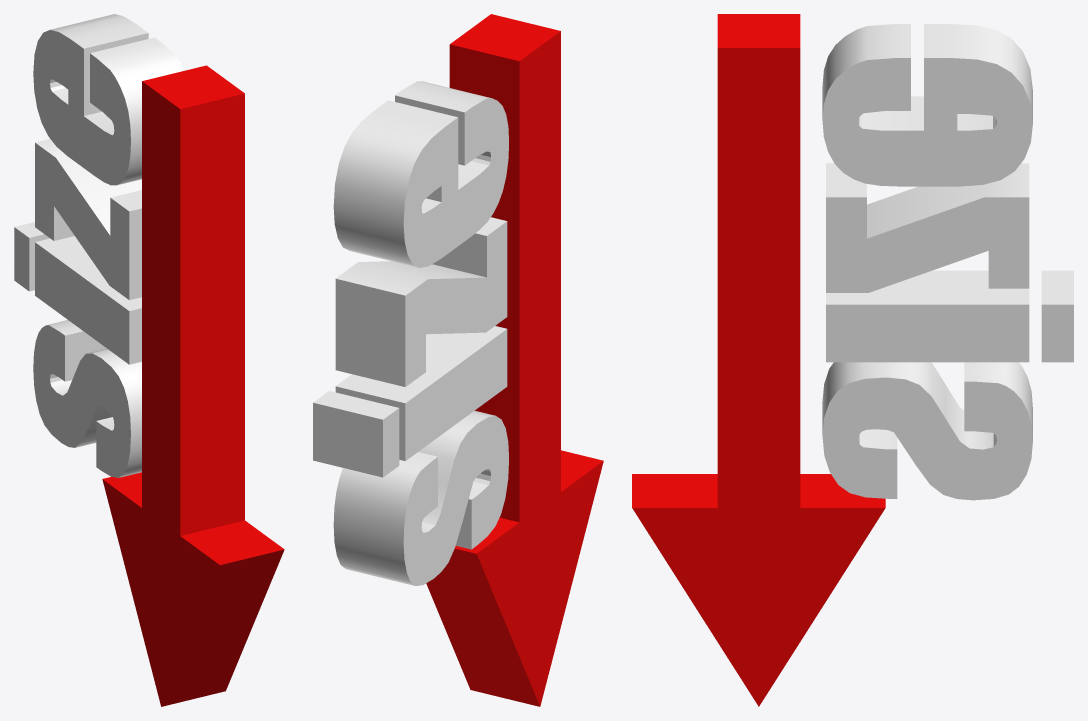
The model's file is size_decrease.dae.
3 views of the same model, side by side, from view 1: azimuth 30°, elevation 25°; view 2: azimuth 150°, elevation 25°; view 3: azimuth 270°, elevation 25° (orthographic). The views are drawn at different scales.
Visible parts, largest first — view 1: SketchUp, size (×5); view 2: size (×5), SketchUp; view 3: size (×5), SketchUp.
Part boxes in pixels (x1=…): SketchUp: x1=102, y1=65, x2=284, y2=706; size (×5): x1=14, y1=14, x2=184, y2=477; size (×5): x1=313, y1=81, x2=508, y2=585; SketchUp: x1=426, y1=14, x2=603, y2=706; size (×5): x1=822, y1=24, x2=1073, y2=500; SketchUp: x1=632, y1=14, x2=885, y2=706.
Bounding box in the file's own units: 0.1084 × 0.5897 × 0.9704.
